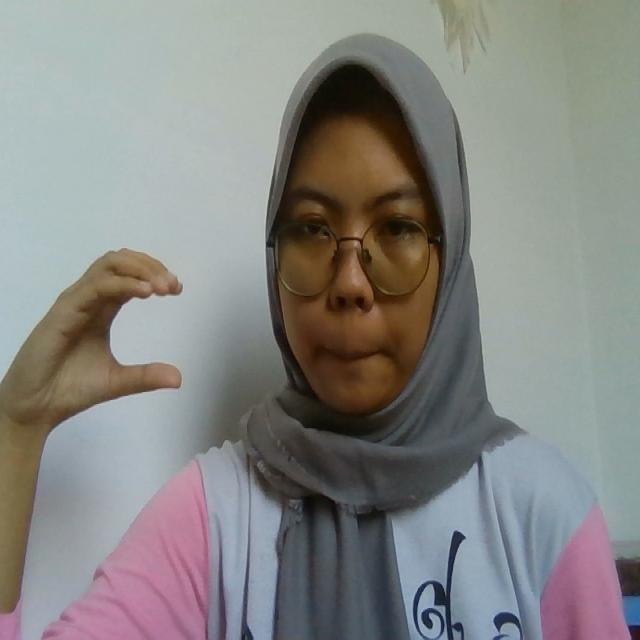C: (3, 245, 185, 421)
